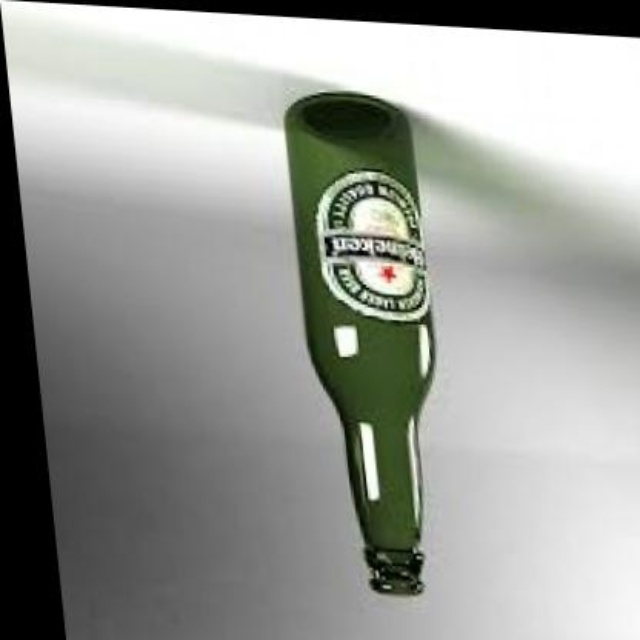trash: (285, 92, 434, 592)
